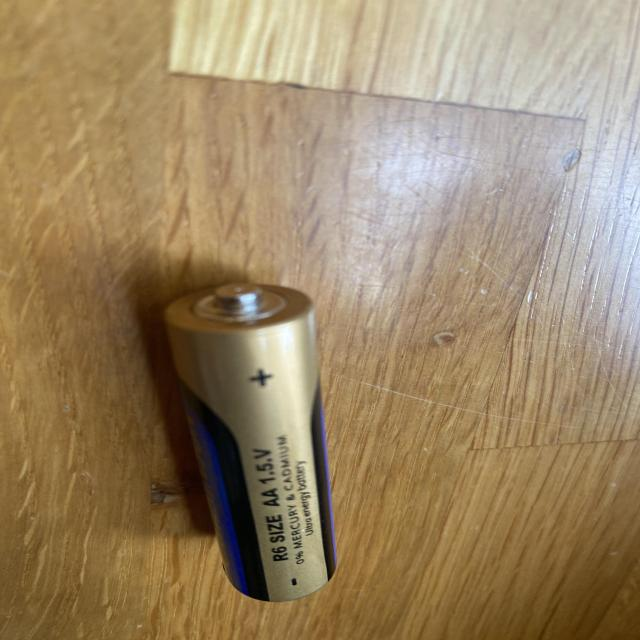AA: (162, 281, 338, 602)
